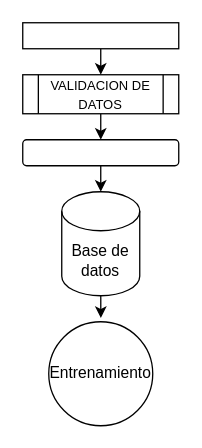
The diagram is 202 pixels wide and 448 high, and some of its shapes have lost their labels. Each missing label, with the centre of its shape:
"DATOS BRUTOS" goes at pixel 100 35.
"DATOS LIMPIOS" goes at pixel 100 152.
